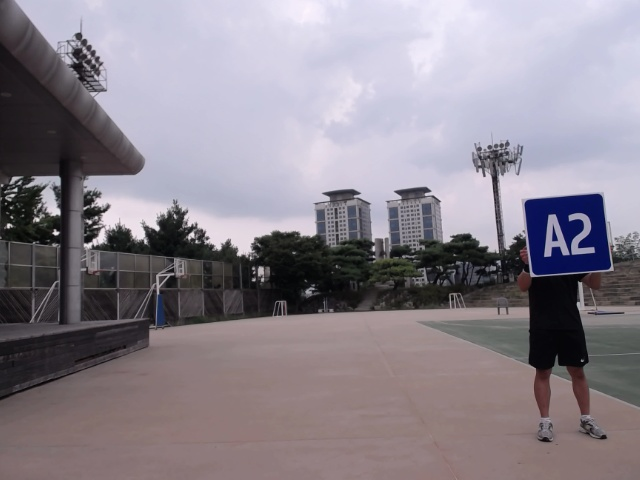delivery_a2: (523, 193, 612, 277)
